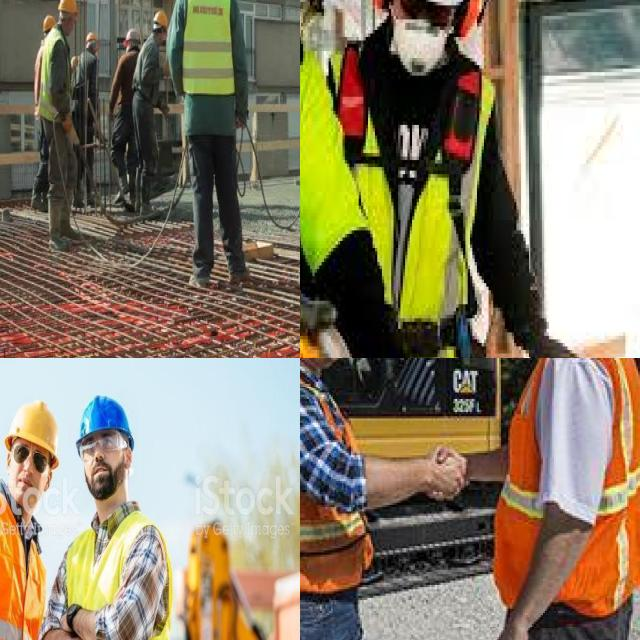Ear-protection: (456, 0, 479, 47)
No_Ear-Protection: (124, 446, 133, 473)
face_nomask: (8, 440, 48, 514), (81, 437, 126, 498)
glasses: (388, 0, 451, 29), (78, 432, 124, 464), (11, 443, 50, 479)
hand_glove: (544, 328, 588, 358)
hand_noglove: (421, 440, 474, 516), (495, 611, 533, 640)
head_helmet: (1, 402, 61, 466), (71, 397, 135, 451), (87, 29, 101, 44), (59, 0, 74, 12), (41, 14, 54, 26), (157, 10, 166, 26)
person: (352, 0, 578, 358), (487, 358, 640, 640), (300, 0, 407, 358), (58, 398, 163, 640), (300, 358, 382, 640), (185, 0, 256, 286), (0, 398, 49, 640), (52, 0, 79, 240), (138, 9, 169, 179), (112, 22, 138, 194), (30, 8, 50, 197), (80, 29, 100, 131)
vest: (337, 27, 484, 358), (515, 358, 640, 600), (300, 380, 366, 605), (62, 514, 171, 640), (0, 494, 39, 640), (185, 0, 236, 97), (37, 28, 67, 119)
